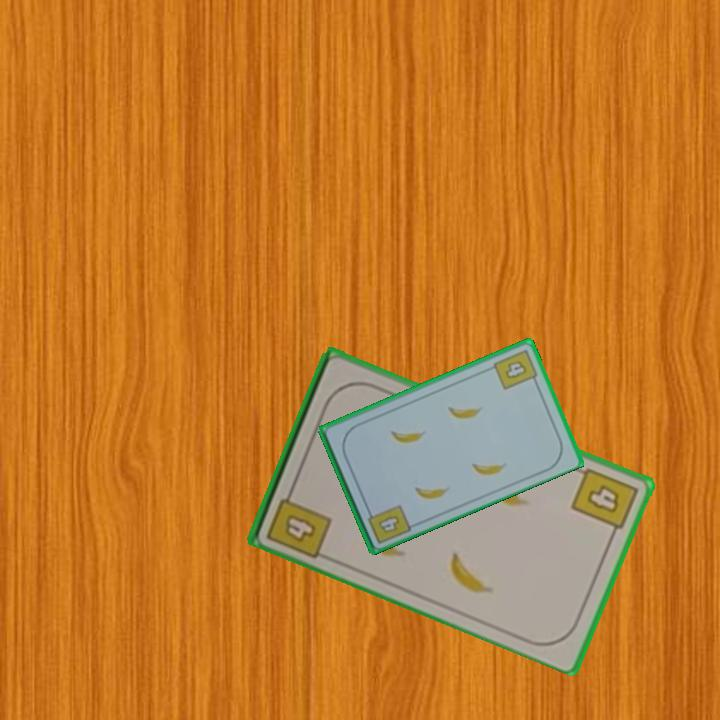4b: (262, 482, 335, 561), (567, 464, 641, 541), (489, 346, 541, 392), (363, 501, 413, 547)
